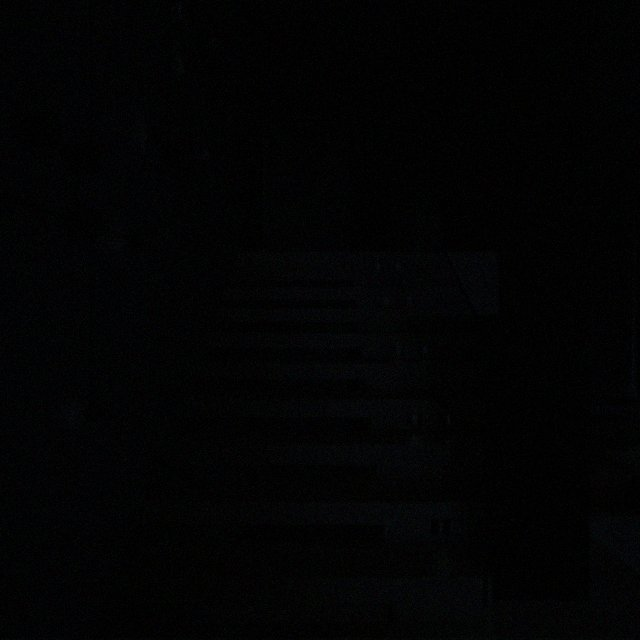stair: (116, 217, 490, 630)
